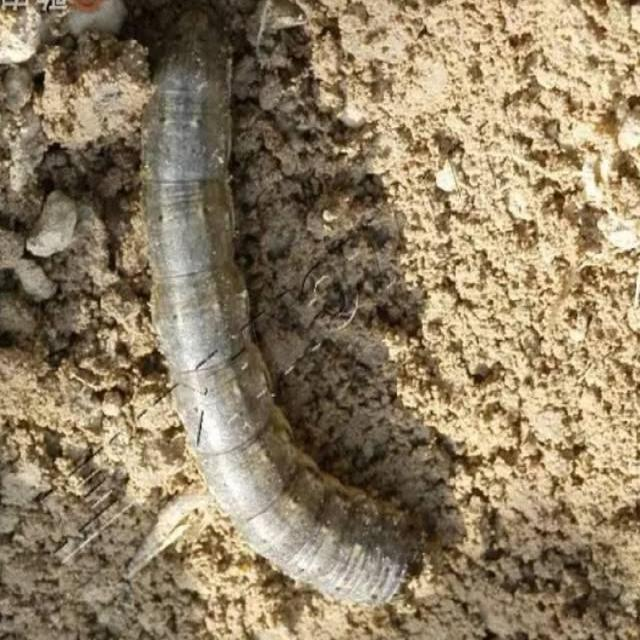black cutworm: (107, 17, 418, 604)
